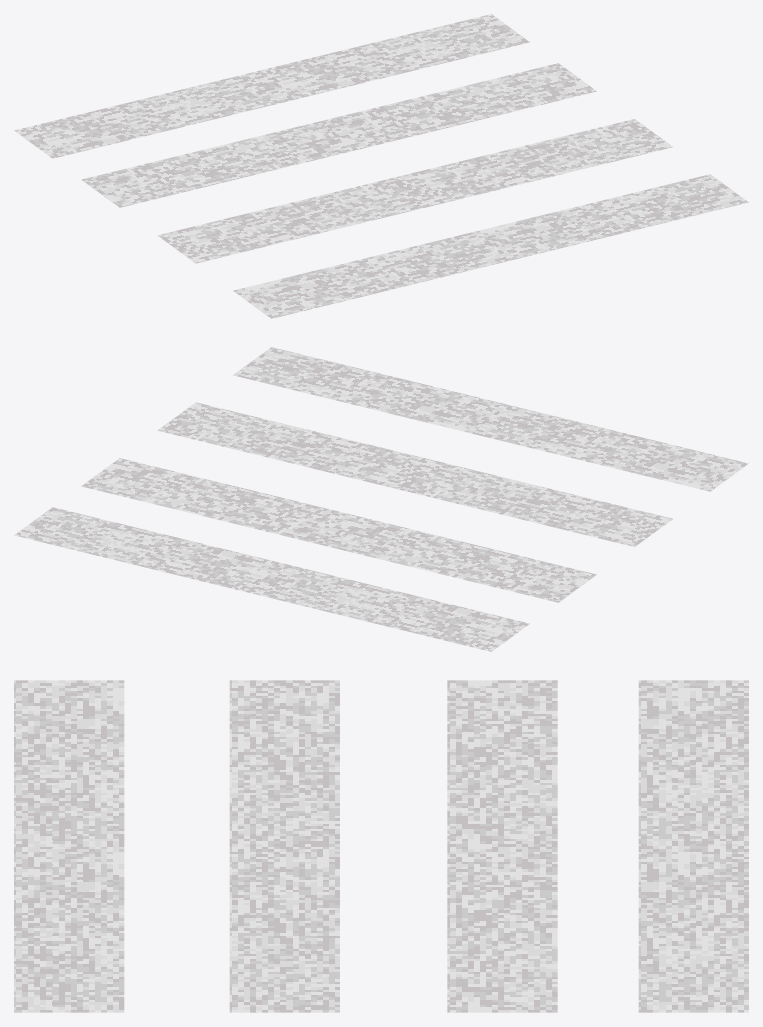
File: BGN_CROSS WALK.fbx
3 views of the same model, one above another, from view 1: azimuth 30°, elevation 25°; view 2: azimuth 150°, elevation 25°; view 3: azimuth 270°, elevation 25° (orthographic). The views are drawn at different scales.
Visible parts, largest first — view 1: BGN_CROSS_WALK; view 2: BGN_CROSS_WALK; view 3: BGN_CROSS_WALK.
Boxes of the visible parts, box(x1,y1,x2,y2) form: BGN_CROSS_WALK: box(14, 14, 748, 318); BGN_CROSS_WALK: box(14, 347, 748, 651); BGN_CROSS_WALK: box(14, 680, 748, 1012).
Bounding box in the file's own units: 814 × 0.00165 × 760.
